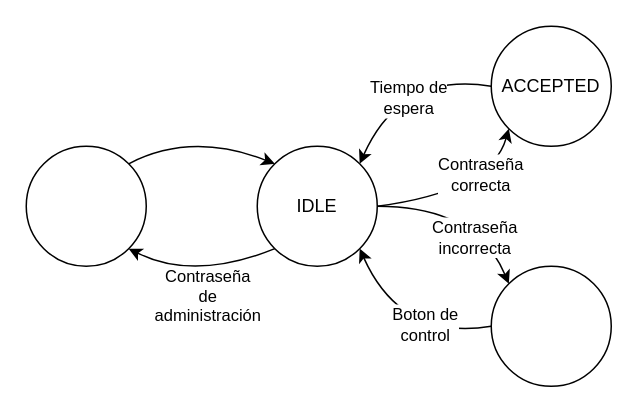
The diagram is 638 pixels wide and 413 high, and some of its shapes have lost their labels. The shapes that lost their labels are listed below. From the top down, each one's box as (x1, y1, x2, y2) in pixels, then its label:
(25, 145, 146, 266): CONFIG
(490, 265, 611, 386): REJECTED
